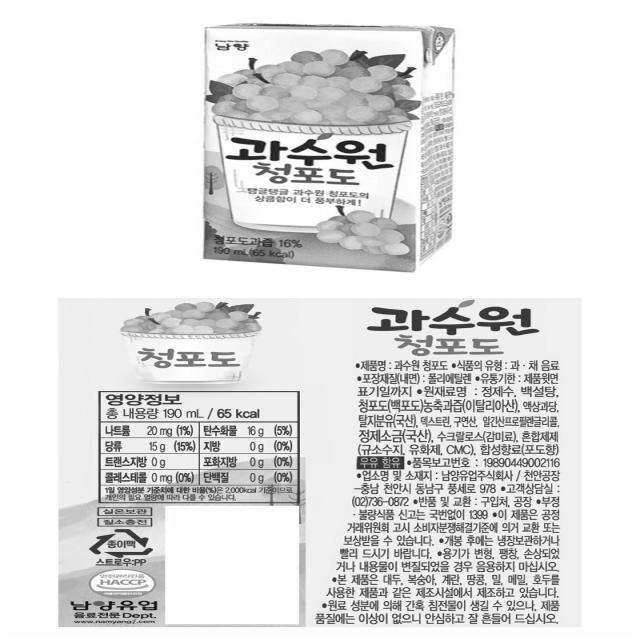Nutrition Label: (80, 379, 316, 511)
